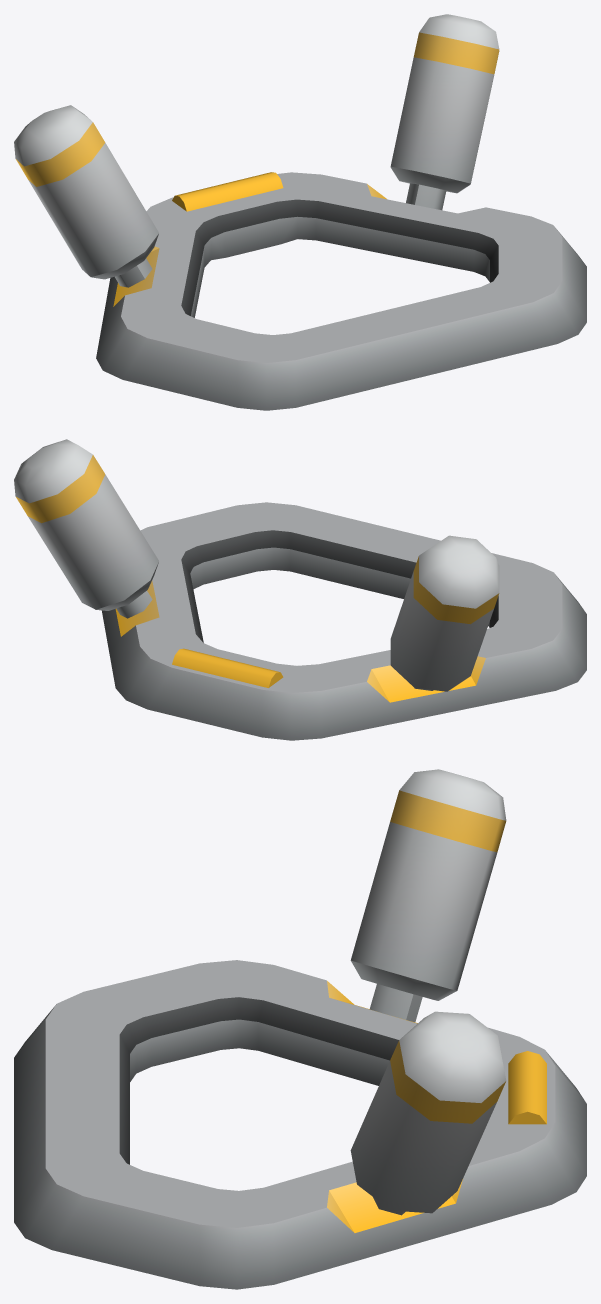
File: Hatch_009.fbx
The picture shows the model from 3 angles, top to bottom: view 1: azimuth 30°, elevation 25°; view 2: azimuth 150°, elevation 25°; view 3: azimuth 270°, elevation 25°; orthographic projection. The views are drawn at different scales.
Visible parts, largest first — view 1: Hatch_009; view 2: Hatch_009; view 3: Hatch_009.
Boxes of the visible parts, x1,y1,x2,y2 form: Hatch_009: (14,14,586,410); Hatch_009: (14,439,586,740); Hatch_009: (14,769,586,1289).
Bounding box in the file's own units: 125 × 101 × 48.2.
